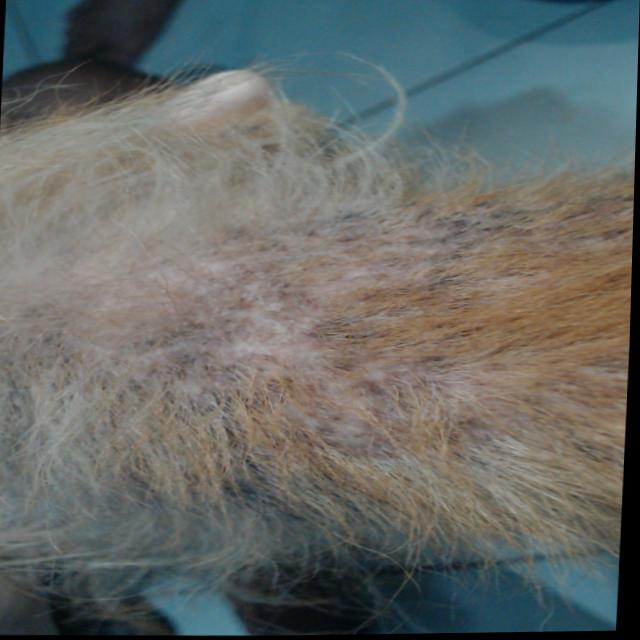demodicosis: (162, 222, 505, 448)
